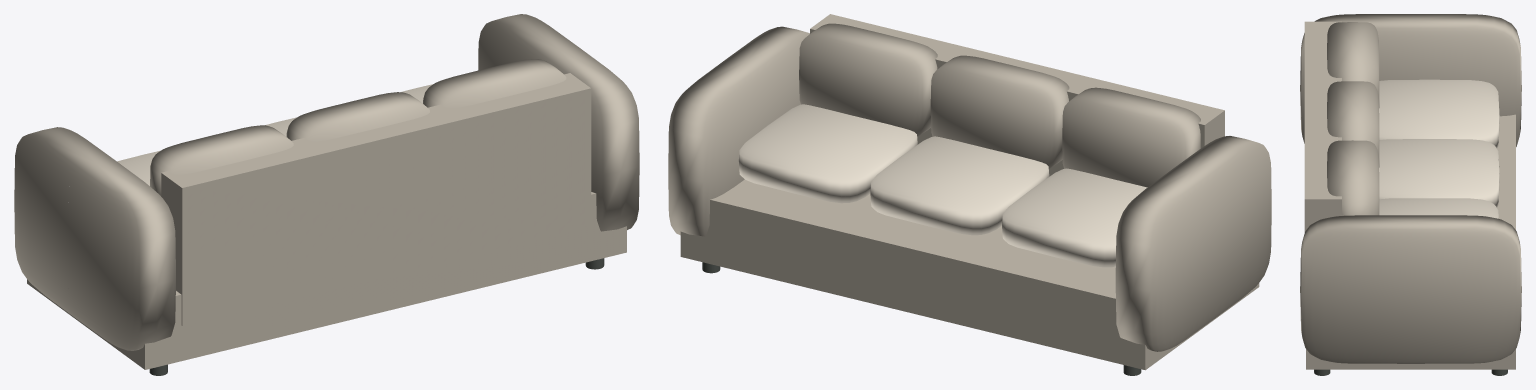
File: ikea-kivik-49440597-g2-sofa-proxy.glb
3 renders of one model, left to right at view 1: azimuth 30°, elevation 25°; view 2: azimuth 150°, elevation 25°; view 3: azimuth 270°, elevation 25°, orthographic. The views are drawn at different scales.
Parts seen in each view (by area): view 1: back_frame, left_arm, sofa_base, right_arm, back_cushion_1, back_cushion_2, back_cushion_3, seat_cushion_1; view 2: sofa_base, left_arm, right_arm, seat_cushion_2, seat_cushion_3, back_cushion_2, back_cushion_3, back_cushion_1, seat_cushion_1, back_frame; view 3: right_arm, left_arm, seat_cushion_2, seat_cushion_1, back_frame, sofa_base, back_cushion_3, back_cushion_2, back_cushion_1, seat_cushion_3.
Boxes of the visible parts, x1,y1,x2,y2 form: back_frame: (161, 73, 591, 325); left_arm: (14, 127, 175, 350); sofa_base: (27, 192, 626, 369); right_arm: (478, 14, 639, 231); back_cushion_1: (150, 125, 293, 196); back_cushion_2: (286, 92, 429, 141); back_cushion_3: (423, 59, 566, 107); seat_cushion_1: (117, 150, 160, 185); sofa_base: (680, 179, 1259, 370); left_arm: (1115, 136, 1271, 351); right_arm: (668, 26, 809, 236); seat_cushion_2: (870, 136, 1049, 235); seat_cushion_3: (738, 104, 917, 203); back_cushion_2: (930, 55, 1069, 168); back_cushion_3: (799, 23, 937, 136); back_cushion_1: (1062, 87, 1200, 187); seat_cushion_1: (1002, 168, 1147, 267); back_frame: (810, 14, 1224, 176); right_arm: (1300, 215, 1521, 363); left_arm: (1300, 14, 1521, 146); seat_cushion_2: (1379, 139, 1499, 207); seat_cushion_1: (1379, 79, 1499, 148); back_frame: (1304, 21, 1341, 232); sofa_base: (1306, 114, 1515, 369); back_cushion_3: (1327, 140, 1379, 215); back_cushion_2: (1327, 81, 1379, 167); back_cushion_1: (1327, 22, 1379, 107); seat_cushion_3: (1379, 198, 1498, 218).
Bounding box in the file's own units: 2.28 × 0.83 × 0.95.
